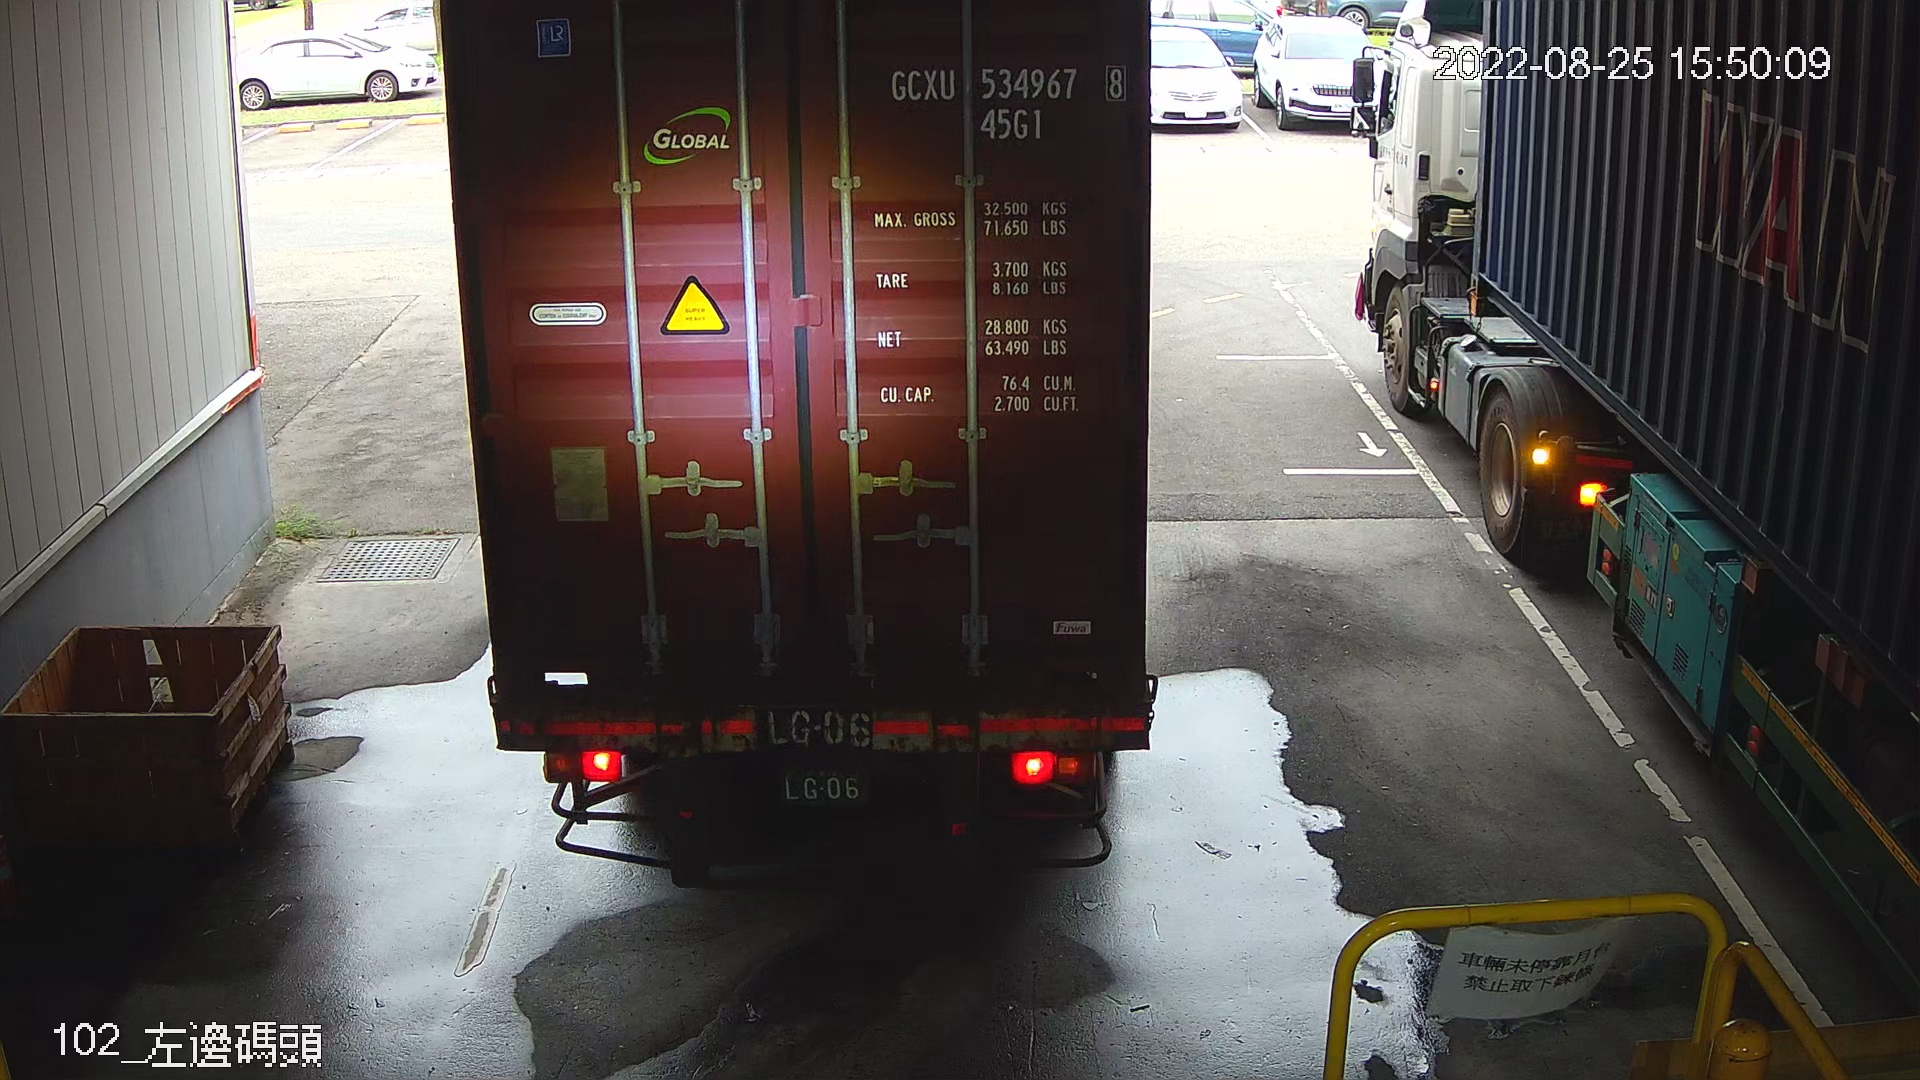container: (878, 47, 1135, 149)
